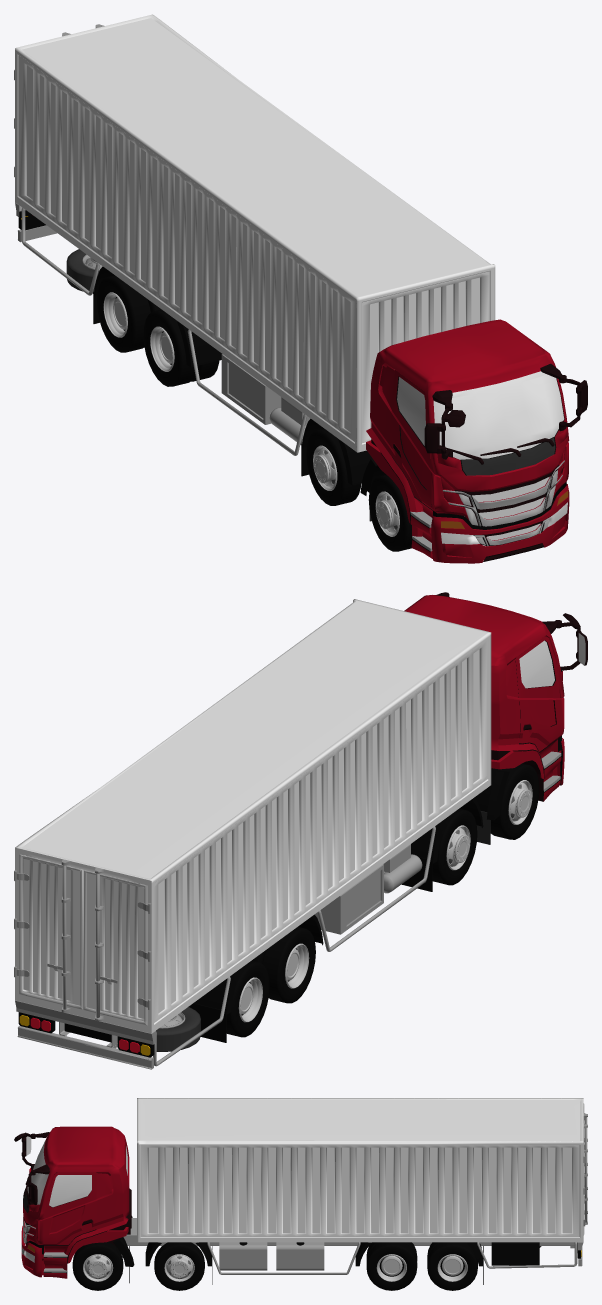
The model's file is Truck.fbx.
3 renders of one model, top to bottom at view 1: azimuth 30°, elevation 25°; view 2: azimuth 150°, elevation 25°; view 3: azimuth 270°, elevation 25°, orthographic. The views are drawn at different scales.
Visible parts, largest first — view 1: Truck Body, Truck Head, Rear Wheel Right 2, Rear Wheel Right.001, Front Wheel Right 2, Front Wheel Right.001; view 2: Truck Body, Truck Head, Rear Wheel Right.001, Front Wheel Right.001, Front Wheel Right 2, Rear Wheel Right 2; view 3: Truck Body, Truck Head, Rear Wheel Left.001, Rear Wheel Left 2, Front Wheel Left 2, Front Wheel Left.001.
Boxes of the visible parts, <box> form: Truck Body: <box>14,14,495,485</box>; Truck Head: <box>360,319,587,563</box>; Rear Wheel Right 2: <box>96,275,161,352</box>; Rear Wheel Right.001: <box>143,309,219,386</box>; Front Wheel Right 2: <box>306,428,361,505</box>; Front Wheel Right.001: <box>368,474,411,551</box>; Truck Body: <box>14,599,491,1069</box>; Truck Head: <box>404,592,587,844</box>; Rear Wheel Right.001: <box>252,927,315,1003</box>; Front Wheel Right.001: <box>490,763,539,839</box>; Front Wheel Right 2: <box>432,808,477,885</box>; Rear Wheel Right 2: <box>226,960,269,1037</box>; Truck Body: <box>123,1098,587,1284</box>; Truck Head: <box>14,1126,134,1283</box>; Rear Wheel Left.001: <box>366,1242,417,1290</box>; Rear Wheel Left 2: <box>427,1242,477,1290</box>; Front Wheel Left 2: <box>154,1242,204,1290</box>; Front Wheel Left.001: <box>72,1242,123,1290</box>.
Size of the model in its own units: 642 by 840 by 2927.
